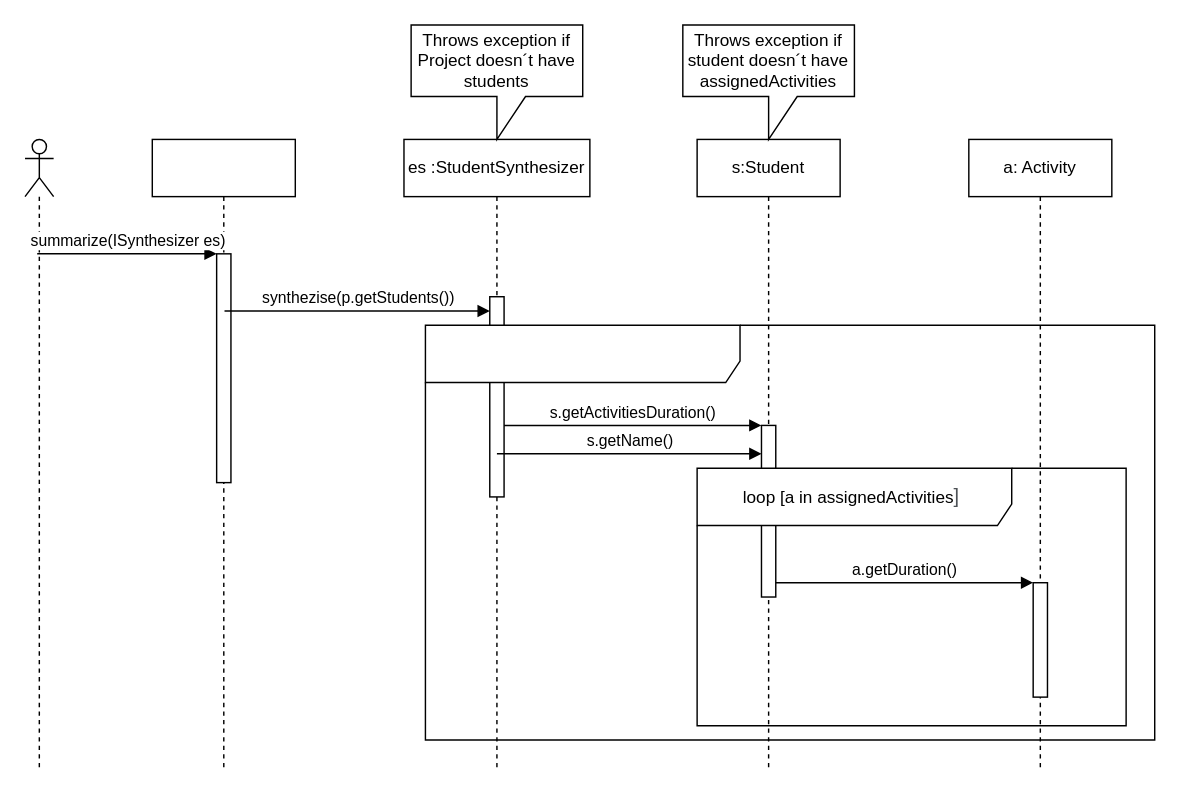
The diagram is 1180 pixels wide and 794 high, and some of its shapes have lost their labels. Each missing label, with the box of its shape:
loop [s in Students ]: (424, 324, 1155, 740)
Proyect: (151, 138, 295, 769)
